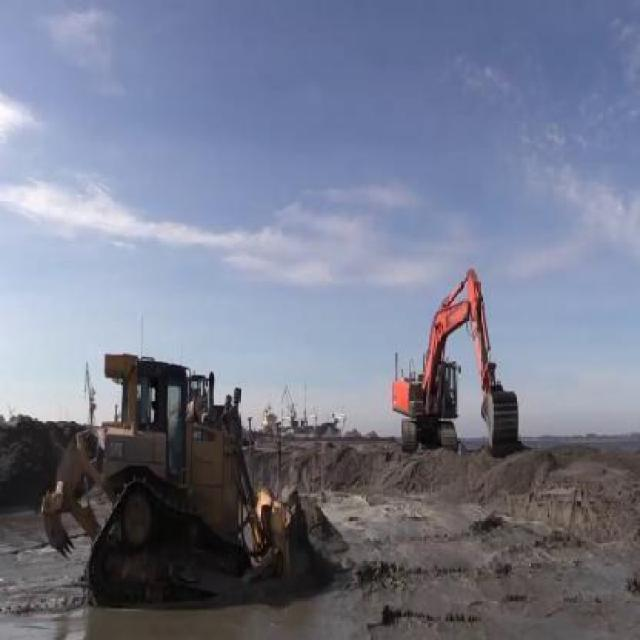buldozerpayloadergrader: (40, 352, 302, 612)
excavator: (390, 261, 518, 457)
